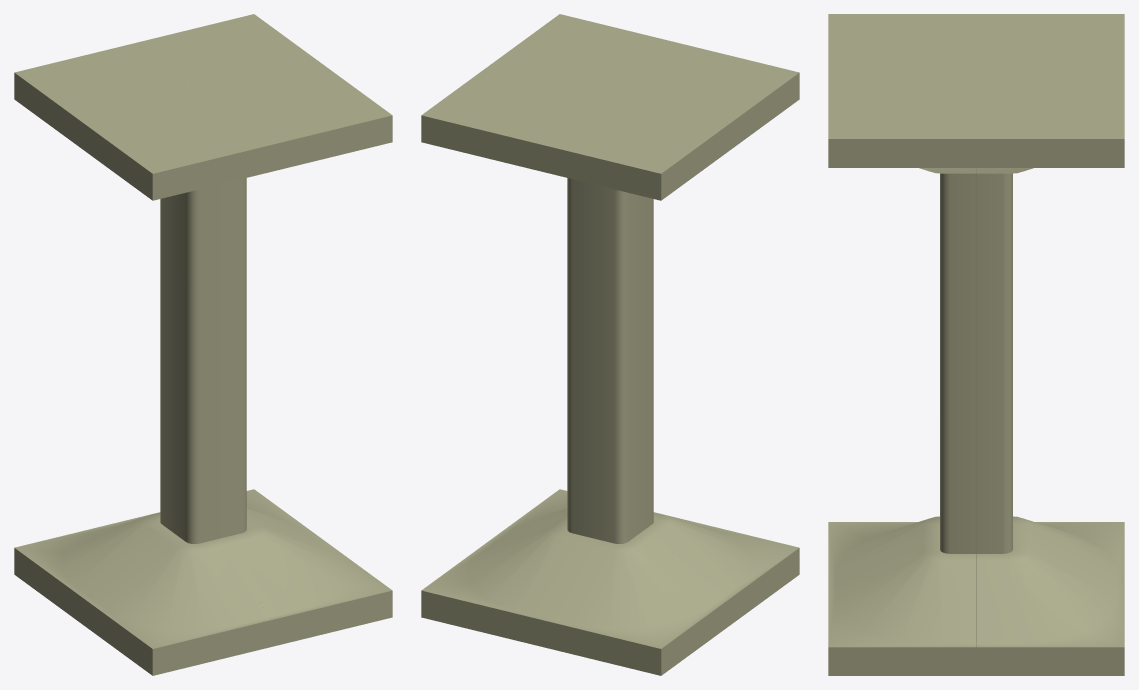
The model's file is zhuzi.FBX.
The picture shows the model from 3 angles, left to right: view 1: azimuth 30°, elevation 25°; view 2: azimuth 150°, elevation 25°; view 3: azimuth 270°, elevation 25°; orthographic projection. The views are drawn at different scales.
Visible parts, largest first — view 1: zhuanjiao_low001, zhuanjiao_low002, zhuanjiao_low, zhuanjiao_low003; view 2: zhuanjiao_low, zhuanjiao_low003, zhuanjiao_low001, zhuanjiao_low002; view 3: zhuanjiao_low003, zhuanjiao_low002, zhuanjiao_low, zhuanjiao_low001.
Boxes of the visible parts, x1,y1,x2,y2 form: zhuanjiao_low001: (83,94,272,675); zhuanjiao_low002: (204,64,392,646); zhuanjiao_low: (14,43,202,624); zhuanjiao_low003: (134,14,322,541); zhuanjiao_low: (541,94,730,675); zhuanjiao_low003: (421,64,609,646); zhuanjiao_low001: (611,43,799,624); zhuanjiao_low002: (491,14,679,541); zhuanjiao_low003: (976,76,1124,675); zhuanjiao_low002: (828,76,976,675); zhuanjiao_low: (976,14,1124,584); zhuanjiao_low001: (828,14,976,584).
Bounding box in the file's own units: 200 × 400 × 200.
